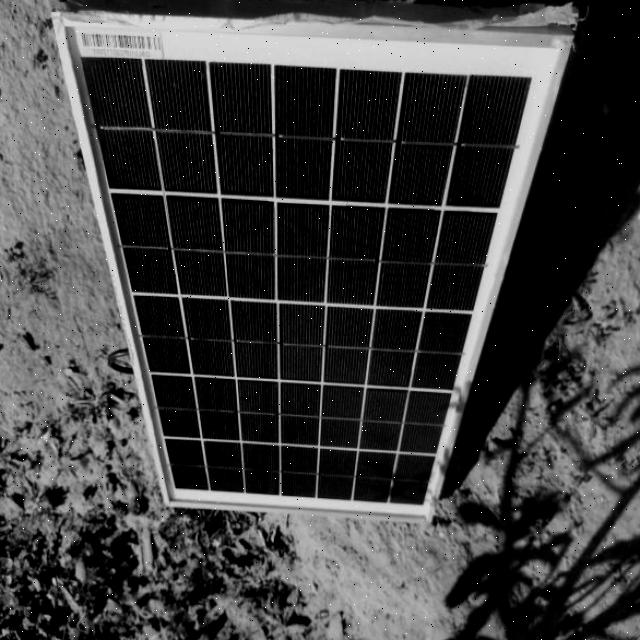Normal Solar Panel: (56, 14, 574, 520)
